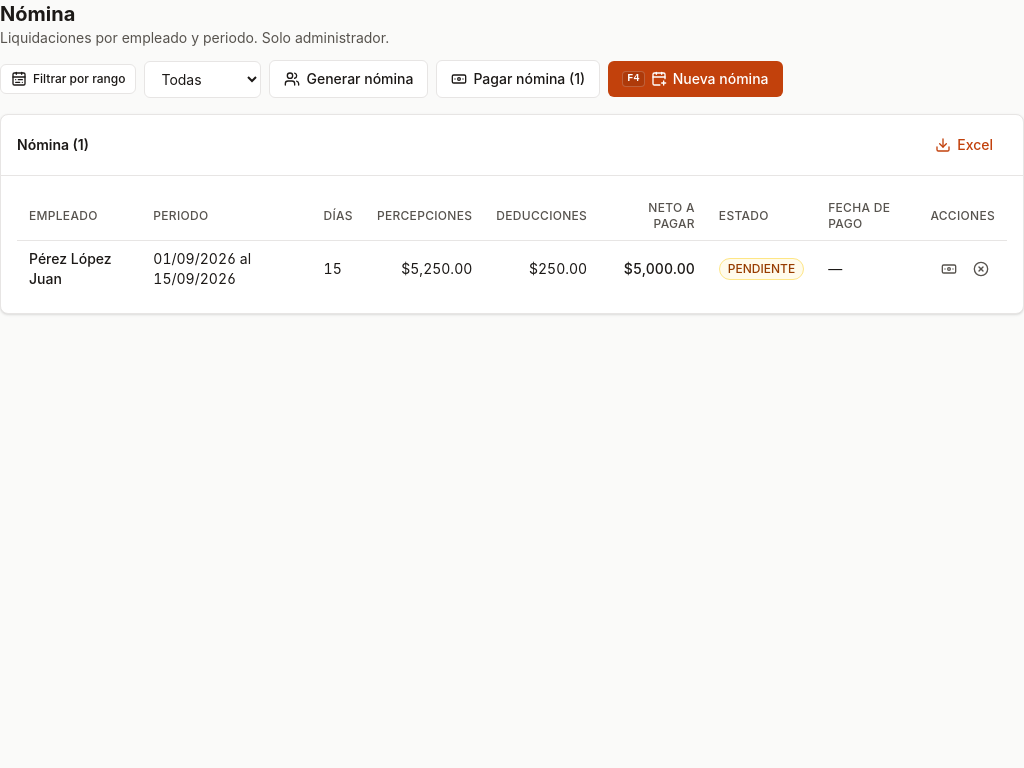
Test: NominaPage (smoke) › abre el diálogo de nueva nómina
Expected: the text "Pérez López Juan" is shown, [29,250,112,287]
Click the button "F4 Nueva nómina" at [695, 79], box [608,61,782,97]
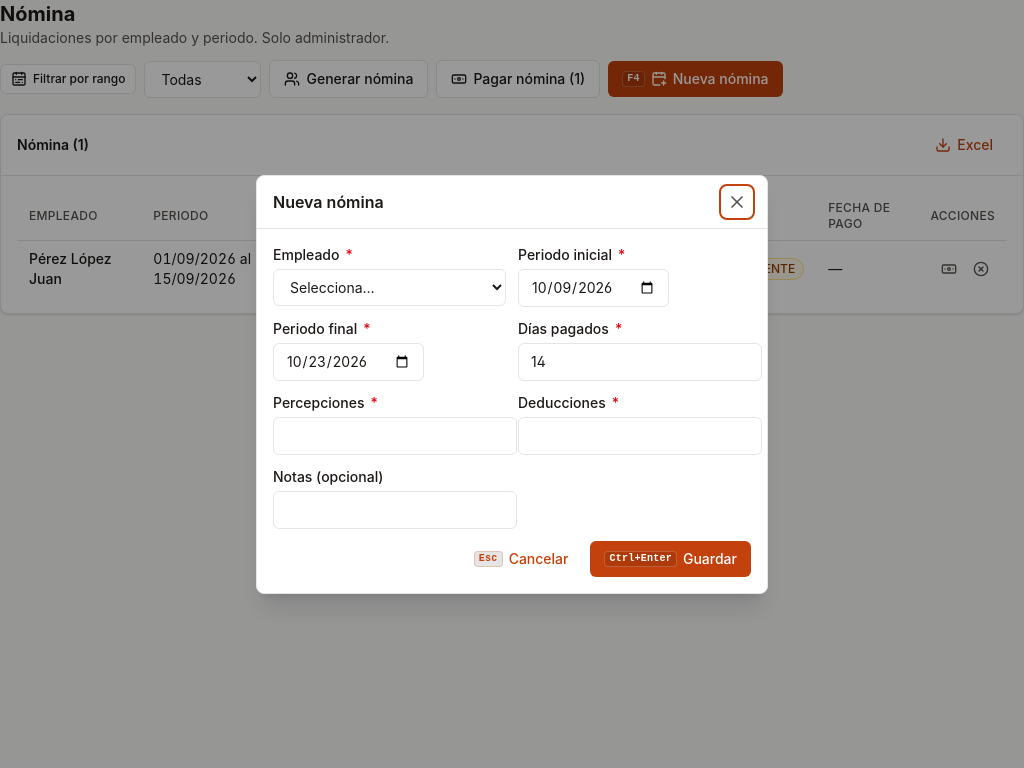
Result: the heading "Nueva nómina" is shown at [273,190,384,214]
Result: the dropdown labelled "Empleado *" is shown at [273,268,506,306]
Result: the number field labelled "Días pagados *" is shown at [518,342,762,380]
